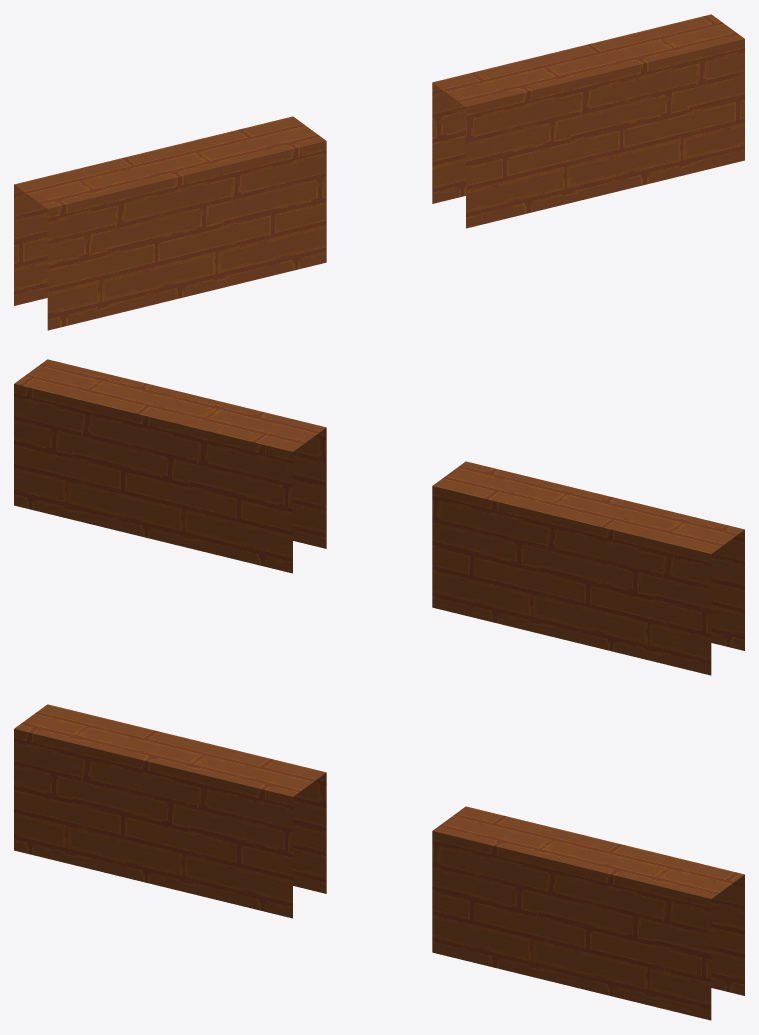
The model's file is Wall-Simple-Passage.fbx.
3 renders of one model, top to bottom at view 1: azimuth 30°, elevation 25°; view 2: azimuth 150°, elevation 25°; view 3: azimuth 330°, elevation 25°, orthographic.
Parts seen in each view (by area): view 1: Wall-Simple-Passage; view 2: Wall-Simple-Passage; view 3: Wall-Simple-Passage.
Part boxes in pixels (x1=…): Wall-Simple-Passage: x1=14, y1=14, x2=744, y2=330; Wall-Simple-Passage: x1=14, y1=359, x2=744, y2=675; Wall-Simple-Passage: x1=14, y1=704, x2=744, y2=1020.
Bounding box in the file's own units: 6 × 1 × 0.5.
